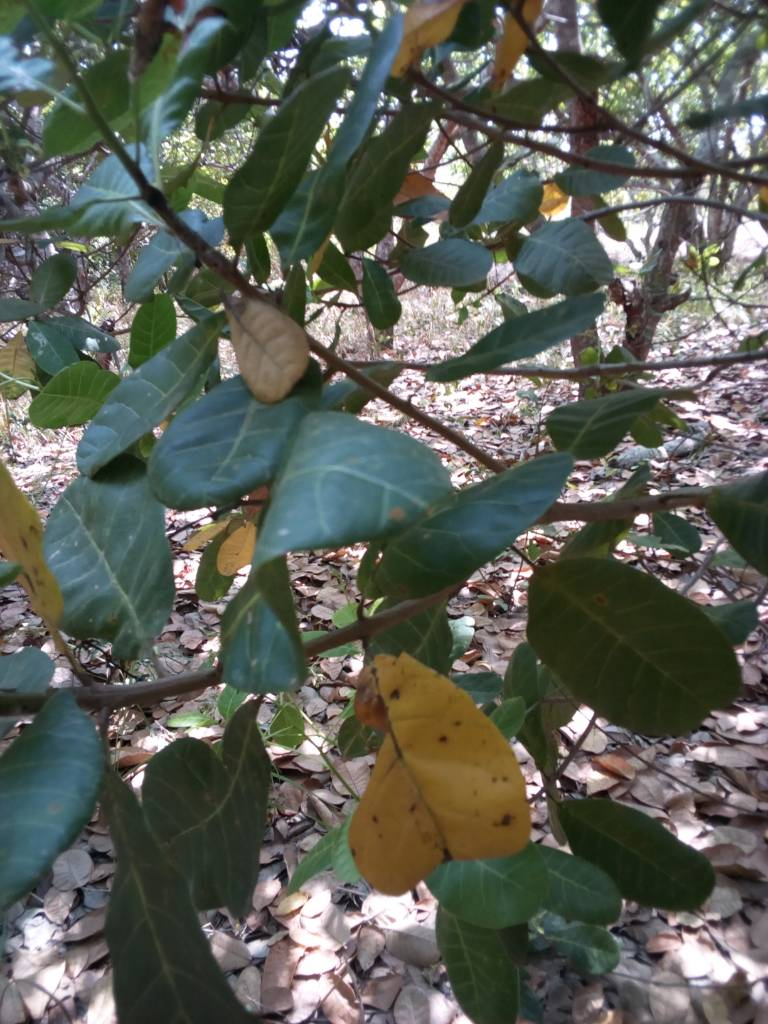Anthracnose: (355, 650, 530, 900)
